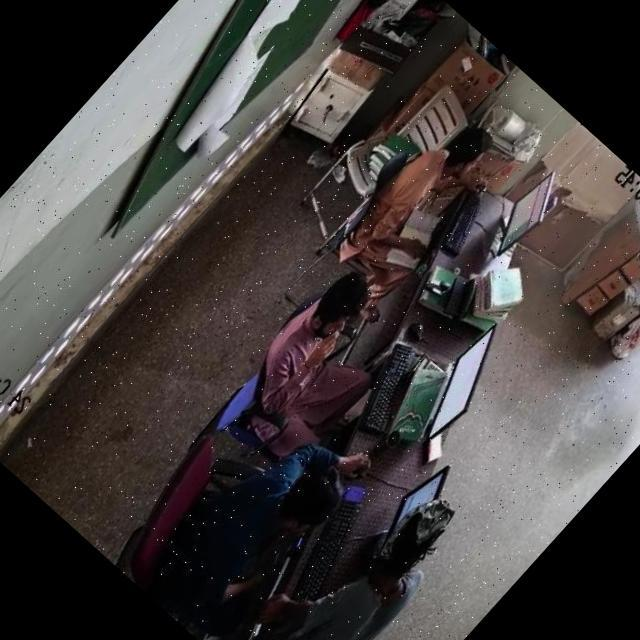person: (152, 398, 378, 632), (225, 258, 424, 464), (248, 472, 477, 640), (346, 110, 508, 282)
